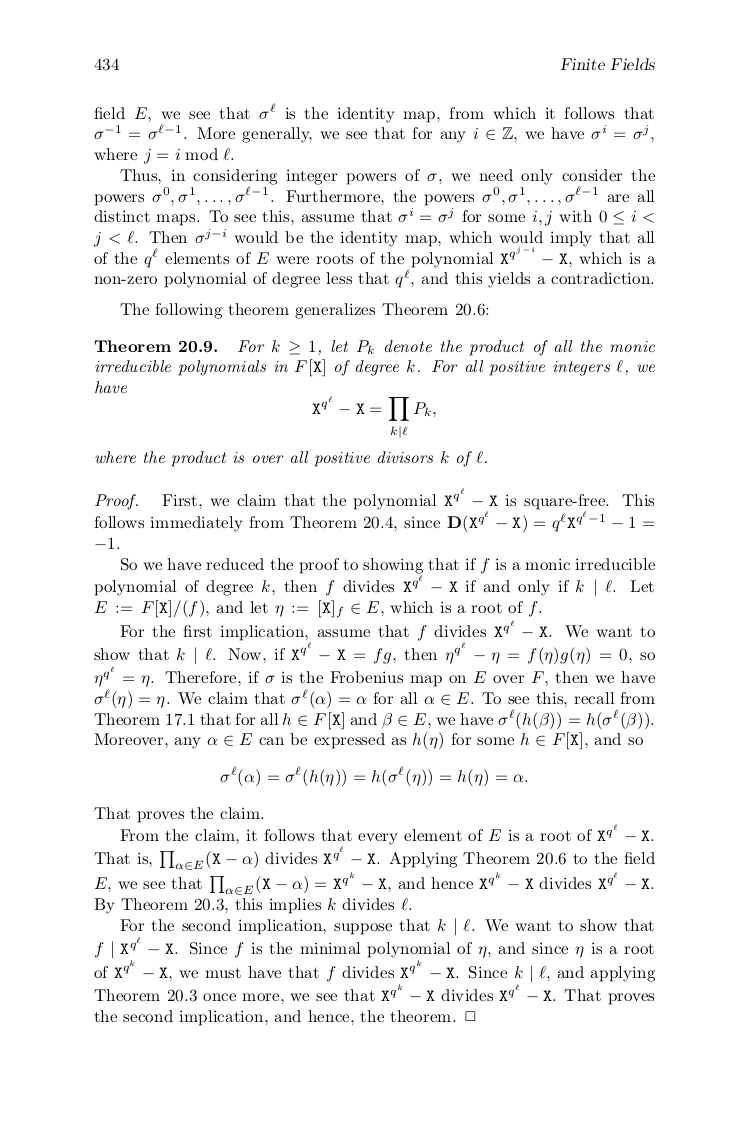formula: (220, 765, 527, 787), (312, 396, 435, 437)
